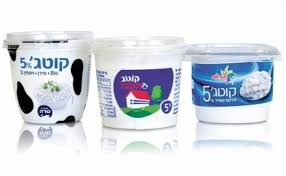Cotage: (182, 34, 281, 135), (94, 30, 180, 131), (7, 30, 93, 125)
